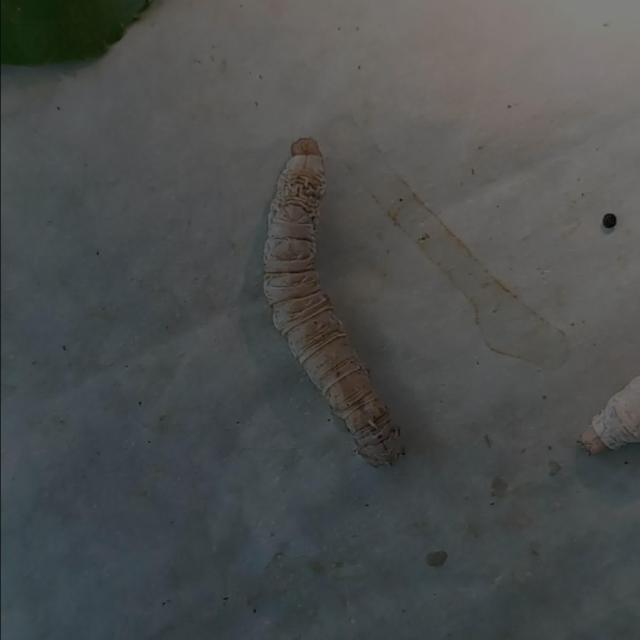Grasserie: (244, 113, 415, 474)
